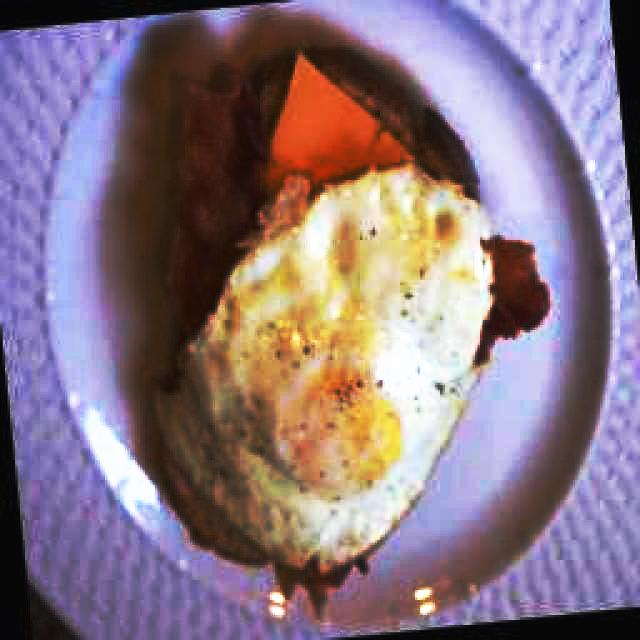fried_eggs: (161, 168, 488, 570)
